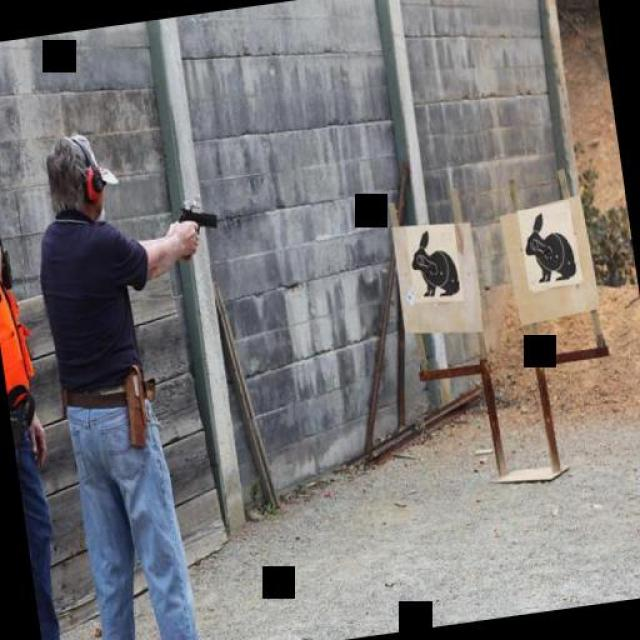gun: (169, 185, 221, 253)
